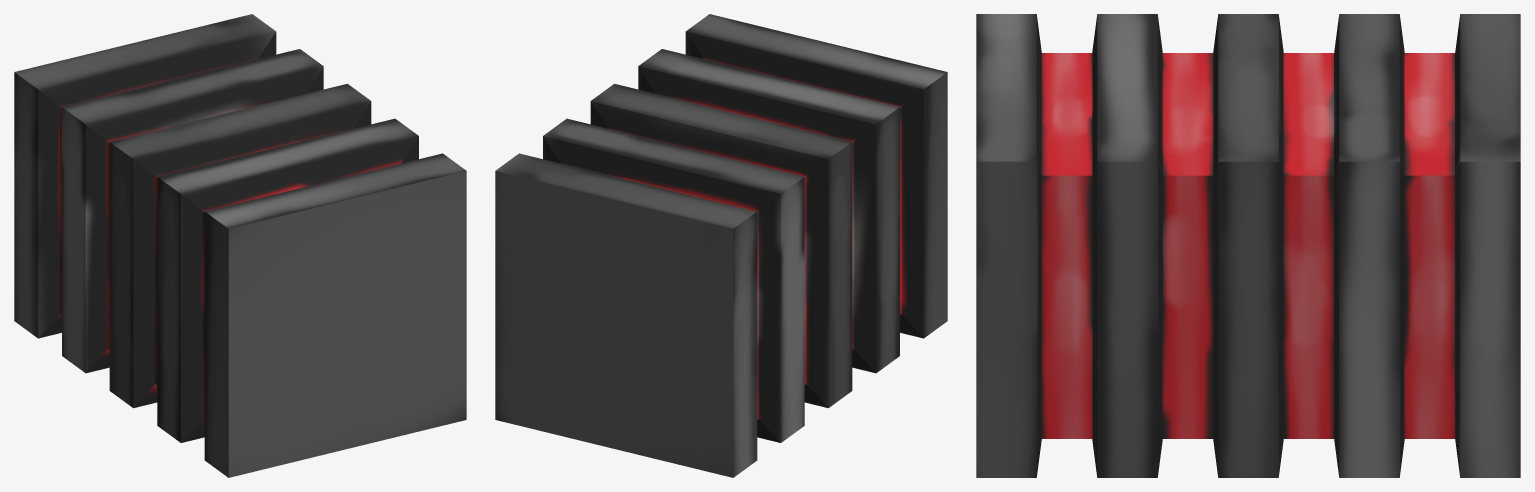
File: SmallBox.fbx
The picture shows the model from 3 angles, left to right: view 1: azimuth 30°, elevation 25°; view 2: azimuth 150°, elevation 25°; view 3: azimuth 270°, elevation 25°; orthographic projection. The views are drawn at different scales.
Visible parts, largest first — view 1: Cube.002; view 2: Cube.002; view 3: Cube.002.
Part boxes in pixels (x1,y1,x2,y2): Cube.002: (14,14,466,477); Cube.002: (495,14,947,477); Cube.002: (976,14,1520,477).
Bounding box in the file's own units: 36.87 × 36.87 × 57.49.
